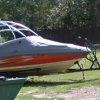Boat: (0, 13, 92, 80)
